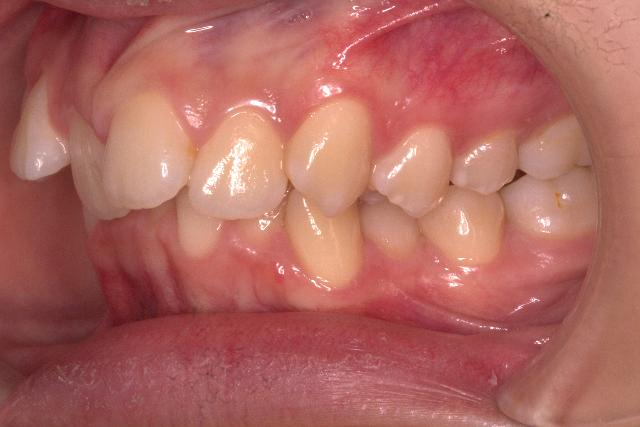canine class II 1/2: (281, 82, 419, 292)
molar class I: (498, 108, 600, 244)
